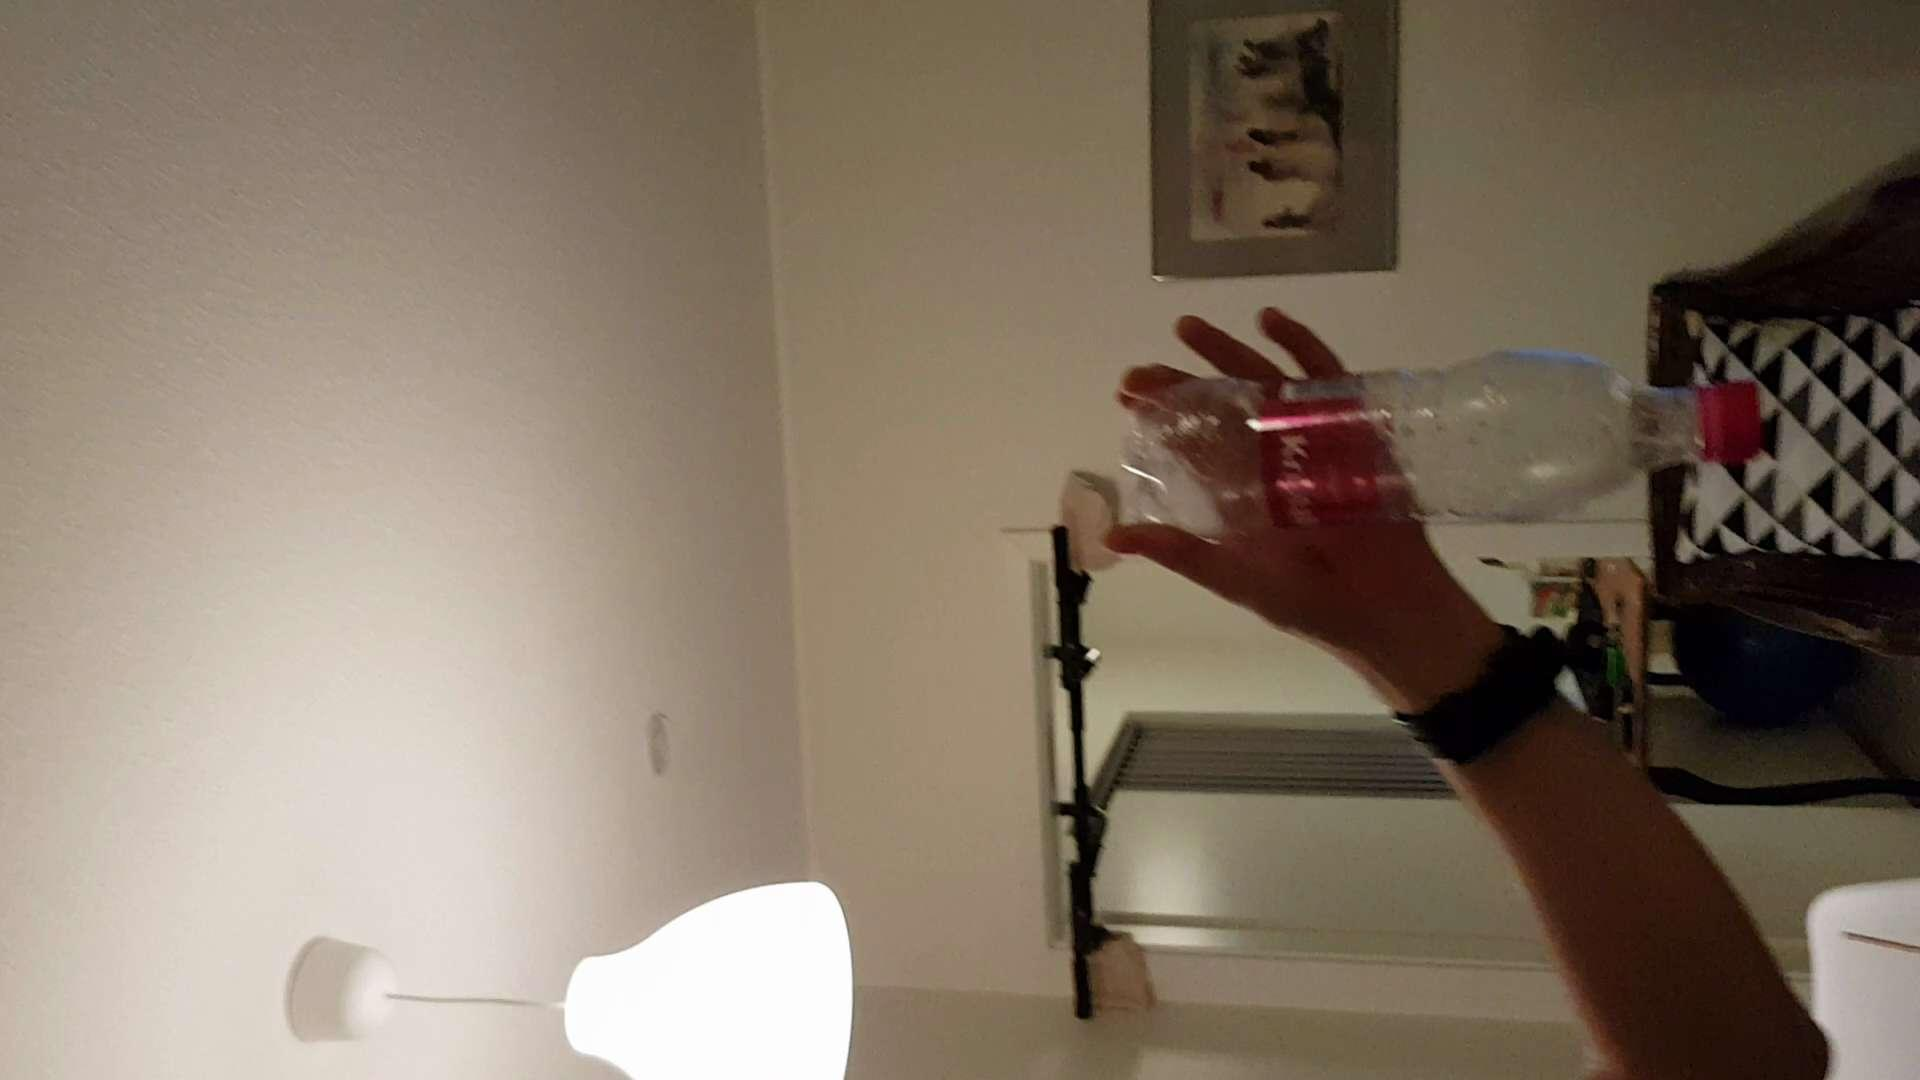Bottle: (1114, 348, 1768, 537)
